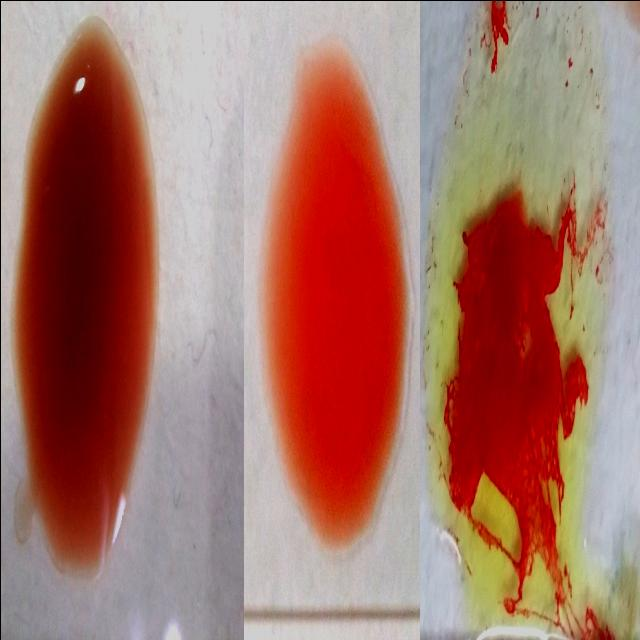B: (432, 14, 608, 612)
